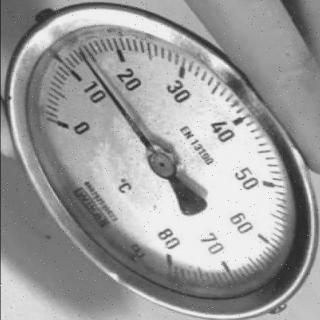gauge: (0, 0, 320, 320), (151, 244, 187, 276), (46, 108, 72, 146), (147, 147, 177, 179), (72, 46, 89, 66)
